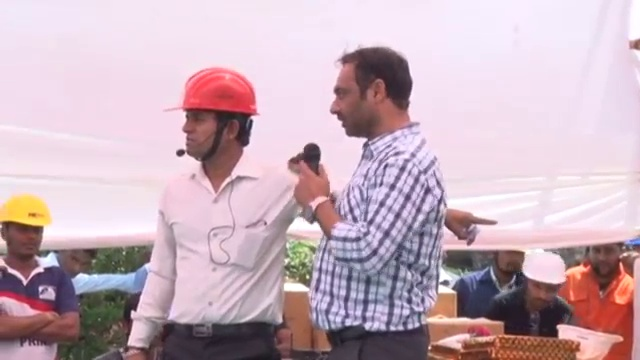helmet: (163, 68, 262, 121), (558, 323, 624, 360), (2, 195, 54, 233), (523, 251, 567, 286)
helmet_off: (326, 46, 419, 135), (118, 289, 168, 352), (53, 246, 99, 283), (493, 244, 529, 280), (590, 242, 622, 275)
helmet_on: (164, 70, 264, 176), (0, 197, 56, 268), (523, 250, 567, 309)
person: (299, 49, 471, 360), (124, 70, 301, 355), (0, 197, 81, 358), (565, 241, 635, 353), (486, 250, 576, 334), (455, 242, 524, 319)
